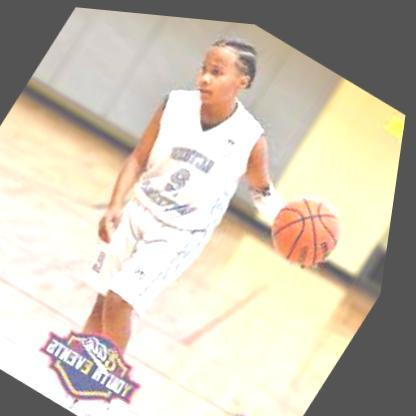basketball: (261, 175, 362, 274)
